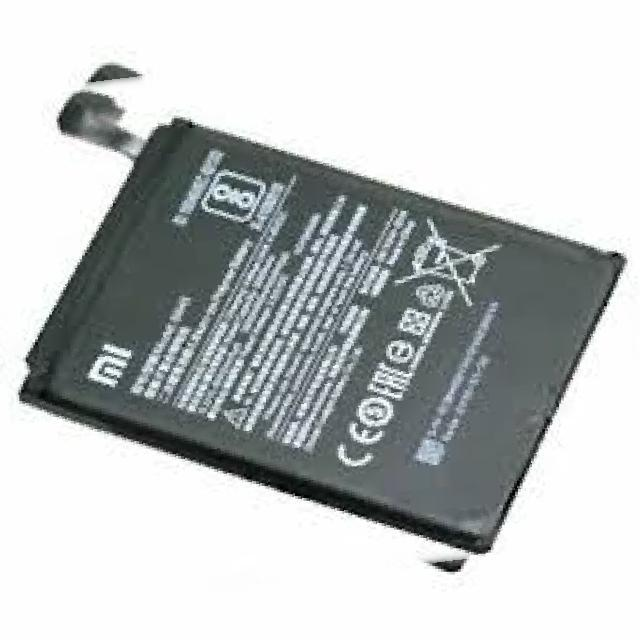Battery: (0, 86, 638, 554)
